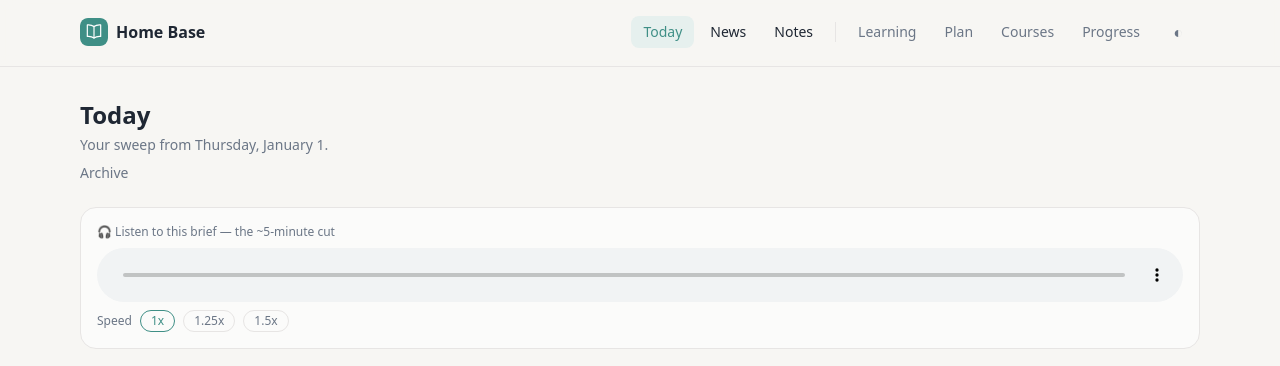
Scenario: App shell navigation › the audio element survives Today → Notes → Today as the same node (FR15)
The image size is (1280, 366).
Check: the text "🎧 Listen to this brief — the ~5-minute cut" is shown, box [97, 223, 335, 240]
Click the link "Notes". click: (794, 32)
box: [774, 22, 813, 41]
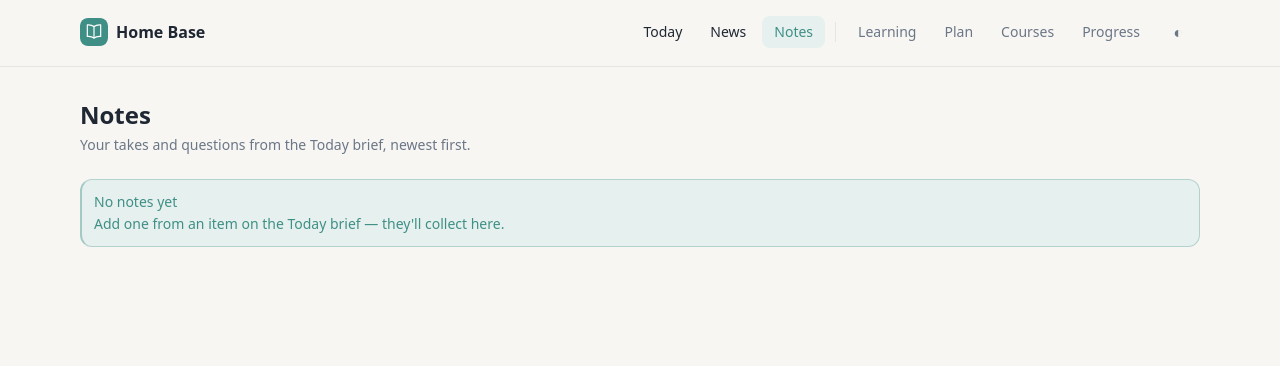
Check: the text "No notes yet" is shown, box [94, 192, 177, 211]
Click the link "Today". click: (663, 32)
box: [643, 22, 682, 41]
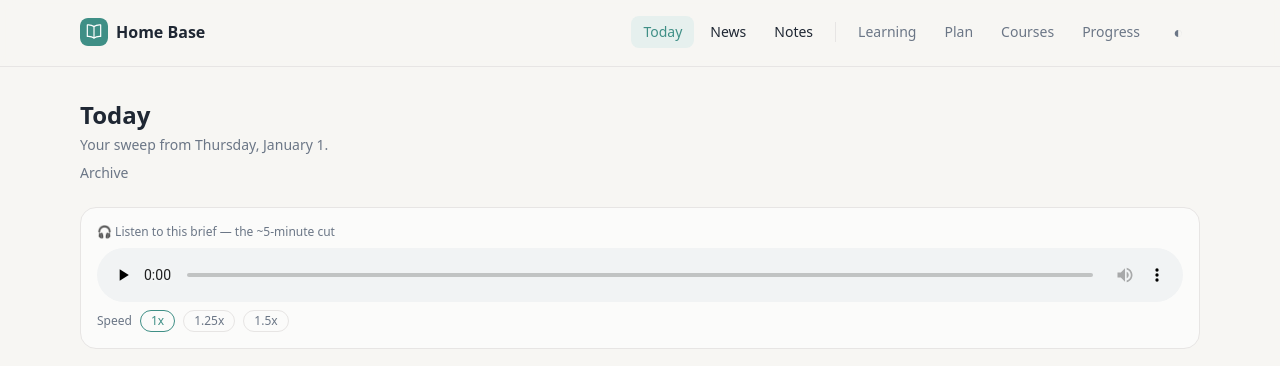
Check: the text "🎧 Listen to this brief — the ~5-minute cut" is shown, box [97, 223, 335, 240]
